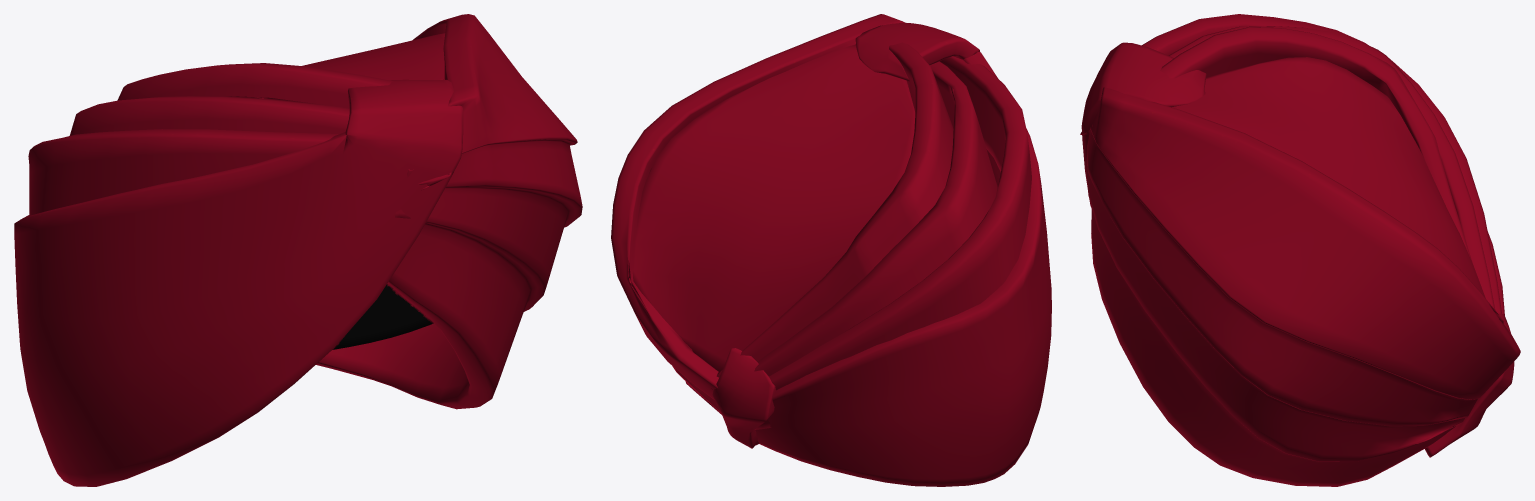
File: sikh_turban2.glb
3 views of the same model, side by side, from view 1: azimuth 30°, elevation 25°; view 2: azimuth 150°, elevation 25°; view 3: azimuth 270°, elevation 25° (orthographic). The views are drawn at different scales.
Visible parts, largest first — view 1: node_id8, node_id11; view 2: node_id8; view 3: node_id8.
Part boxes in pixels (x1,y1,x2,y2): node_id8: (14, 14, 582, 486); node_id11: (332, 283, 433, 349); node_id8: (611, 14, 1051, 486); node_id8: (1080, 14, 1520, 486).
Bounding box in the file's own units: 0.512 × 0.4073 × 0.4249.
2 materials, 2 textured.
